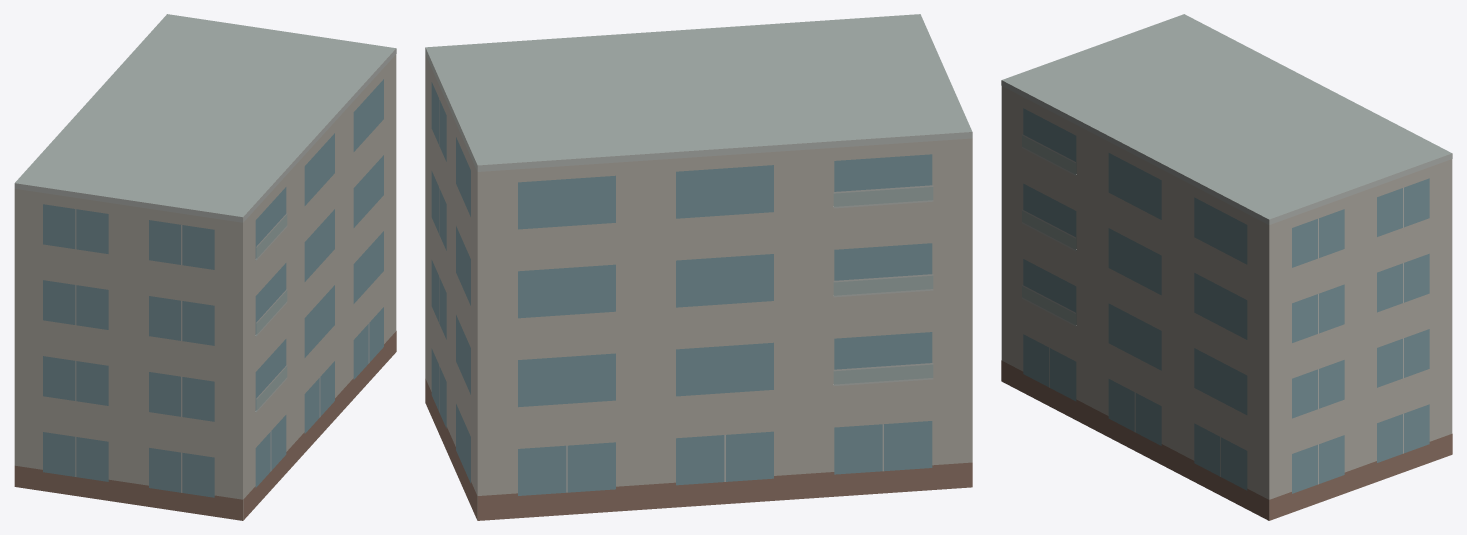
Rendered from survey-upis-32833263.glb.
The picture shows the model from 3 angles, left to right: view 1: azimuth 30°, elevation 25°; view 2: azimuth 150°, elevation 25°; view 3: azimuth 270°, elevation 25°; orthographic projection. The views are drawn at different scales.
Parts seen in each view (by area): view 1: survey-upis-32833263.tmp; view 2: survey-upis-32833263.tmp; view 3: survey-upis-32833263.tmp.
Part boxes in pixels (<box>): survey-upis-32833263.tmp: <box>14,14,396,520</box>; survey-upis-32833263.tmp: <box>425,14,972,520</box>; survey-upis-32833263.tmp: <box>1001,14,1452,520</box>.
Size of the model in its own units: 19.33 by 13.2 by 17.91.
